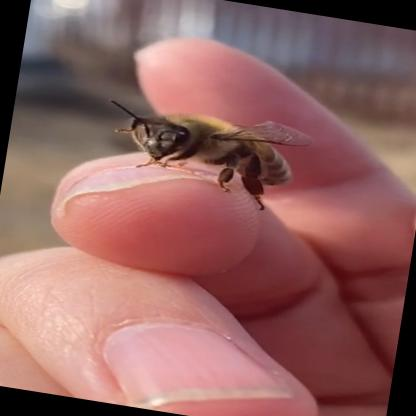bee: (65, 72, 354, 228)
